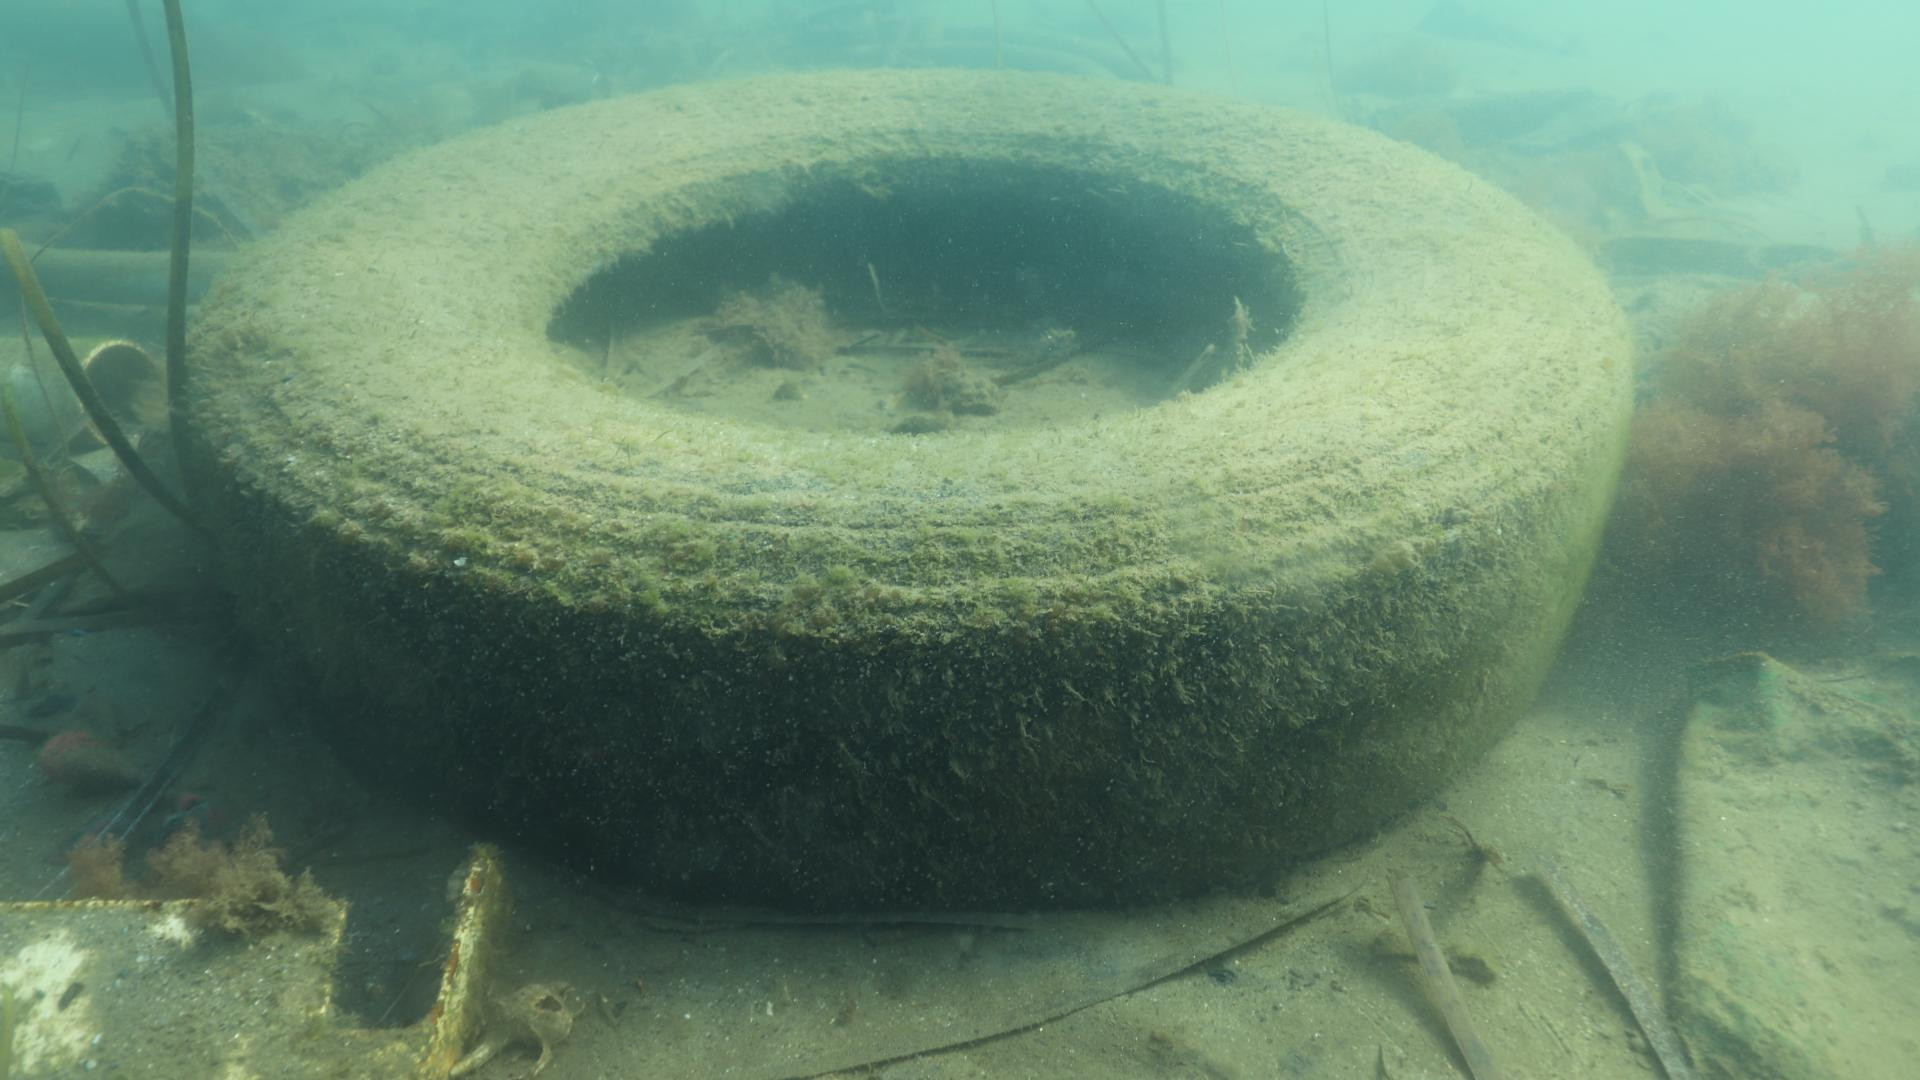tire: (187, 69, 1631, 922)
